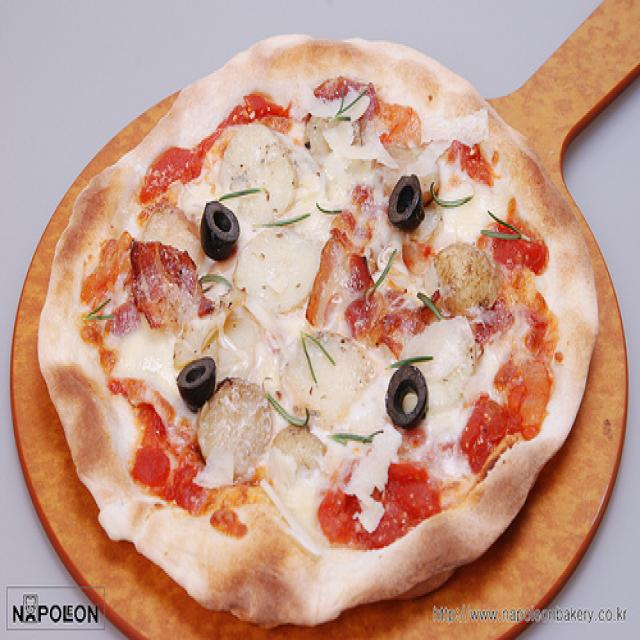Wet Waste: (30, 24, 603, 636)
